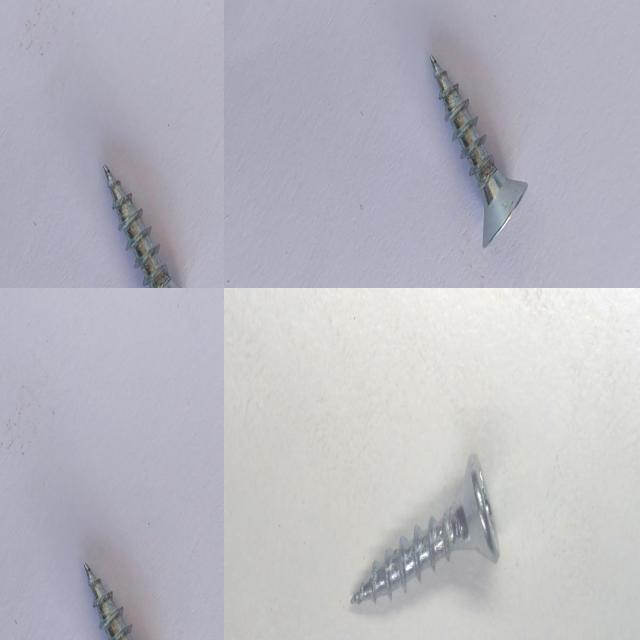Screw: (351, 452, 499, 603), (430, 55, 528, 247), (103, 163, 182, 288), (84, 562, 133, 640)
